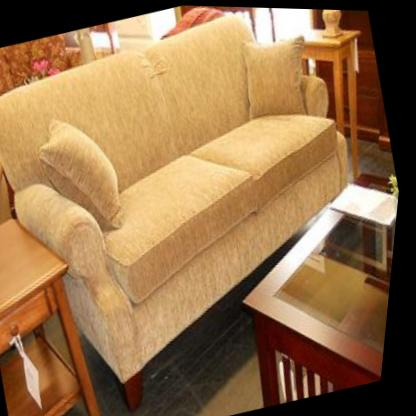Sofa: (0, 0, 416, 416)
Table: (211, 158, 404, 410), (0, 198, 133, 416)
